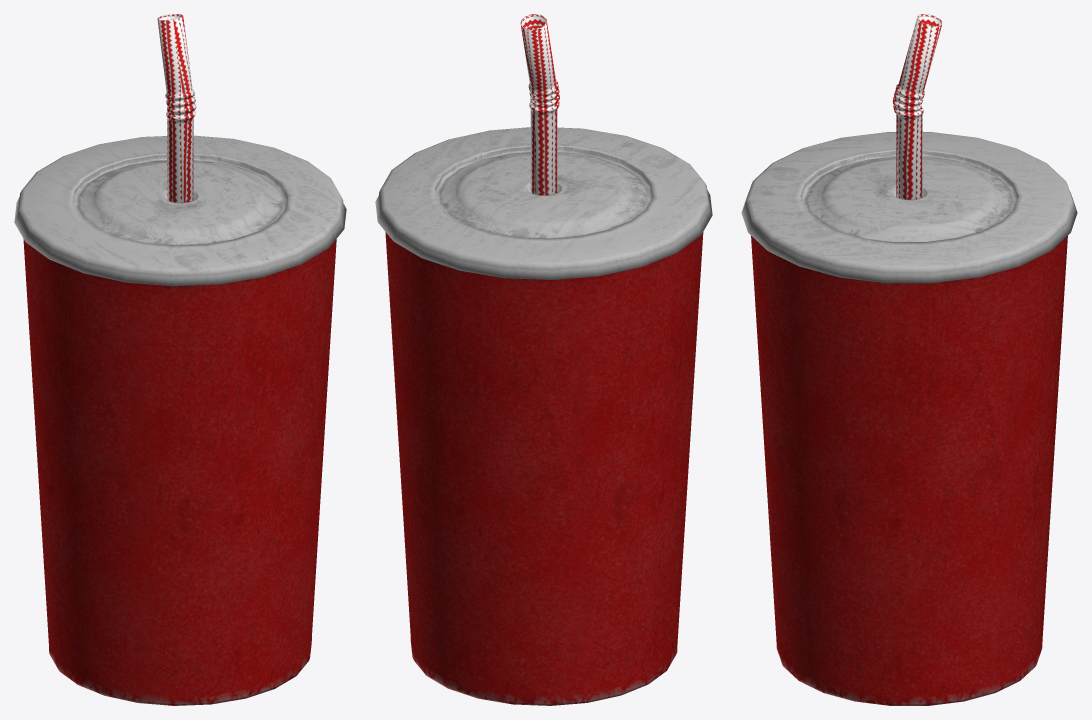
The model's file is Un_Cine_Vaso.fbx.
3 views of the same model, side by side, from view 1: azimuth 30°, elevation 25°; view 2: azimuth 150°, elevation 25°; view 3: azimuth 270°, elevation 25° (orthographic).
Visible parts, largest first — view 1: Cylinder; view 2: Cylinder; view 3: Cylinder.
Boxes of the visible parts, left/top/right/bottom form: Cylinder: left=14, top=14, right=346, bottom=705; Cylinder: left=375, top=14, right=712, bottom=705; Cylinder: left=741, top=14, right=1077, bottom=705.
Size of the model in its own units: 14.39 by 30.3 by 14.54.
Materials: 1 (1 with a texture image).
